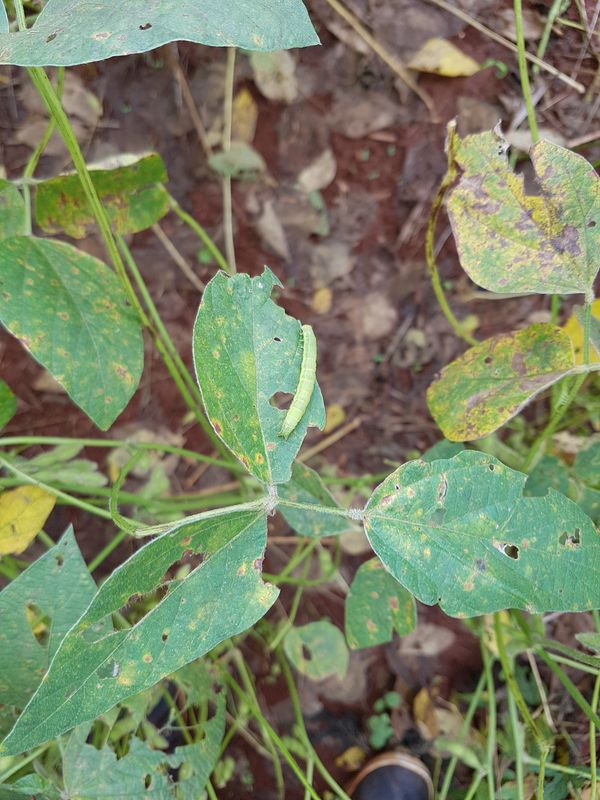Anticarsia_gemmatalis: (269, 317, 343, 447)
